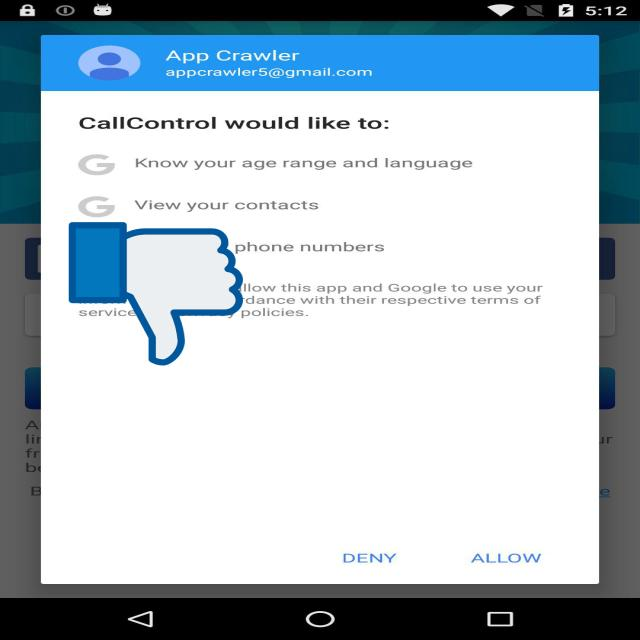obstruction: (69, 219, 243, 369)
